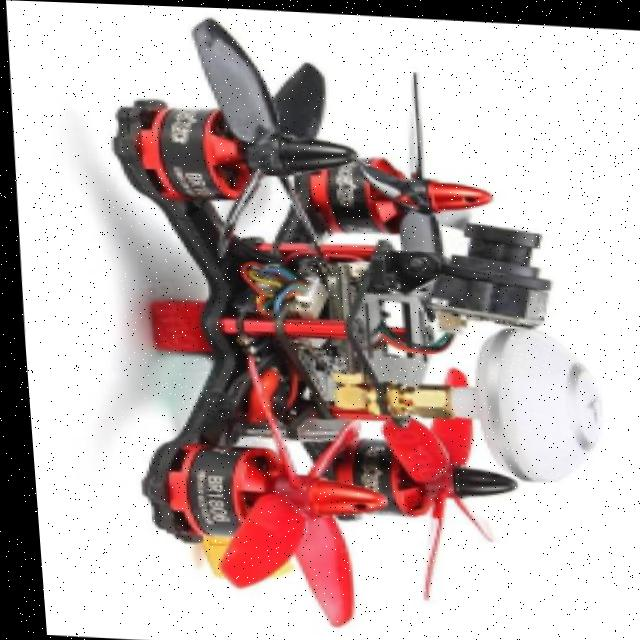drones: (68, 16, 609, 640)
